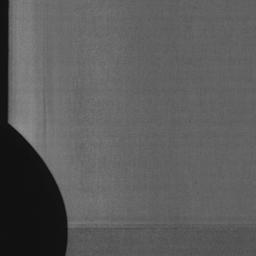Crescent gap: (9, 124, 68, 256)
